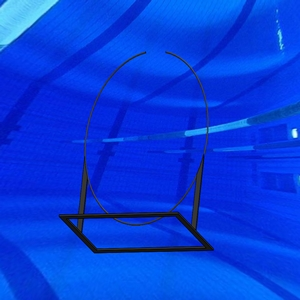circle: (58, 50, 216, 254)
